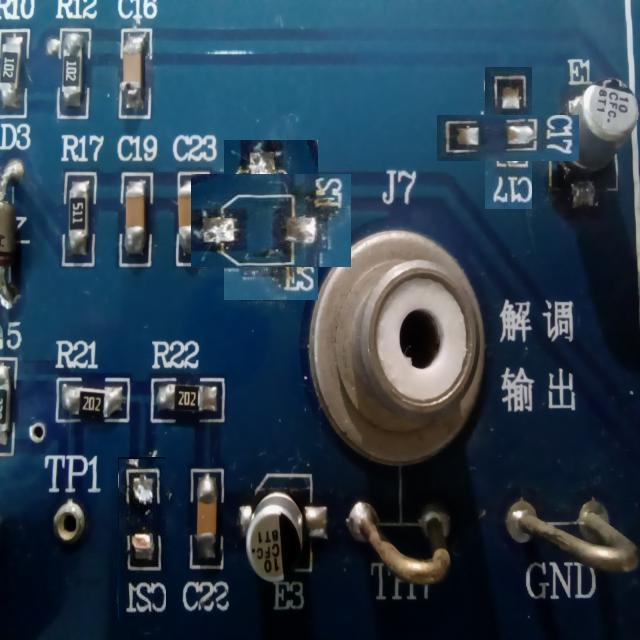miss_welding: (208, 157, 334, 283), (461, 91, 556, 185), (118, 458, 166, 620)
